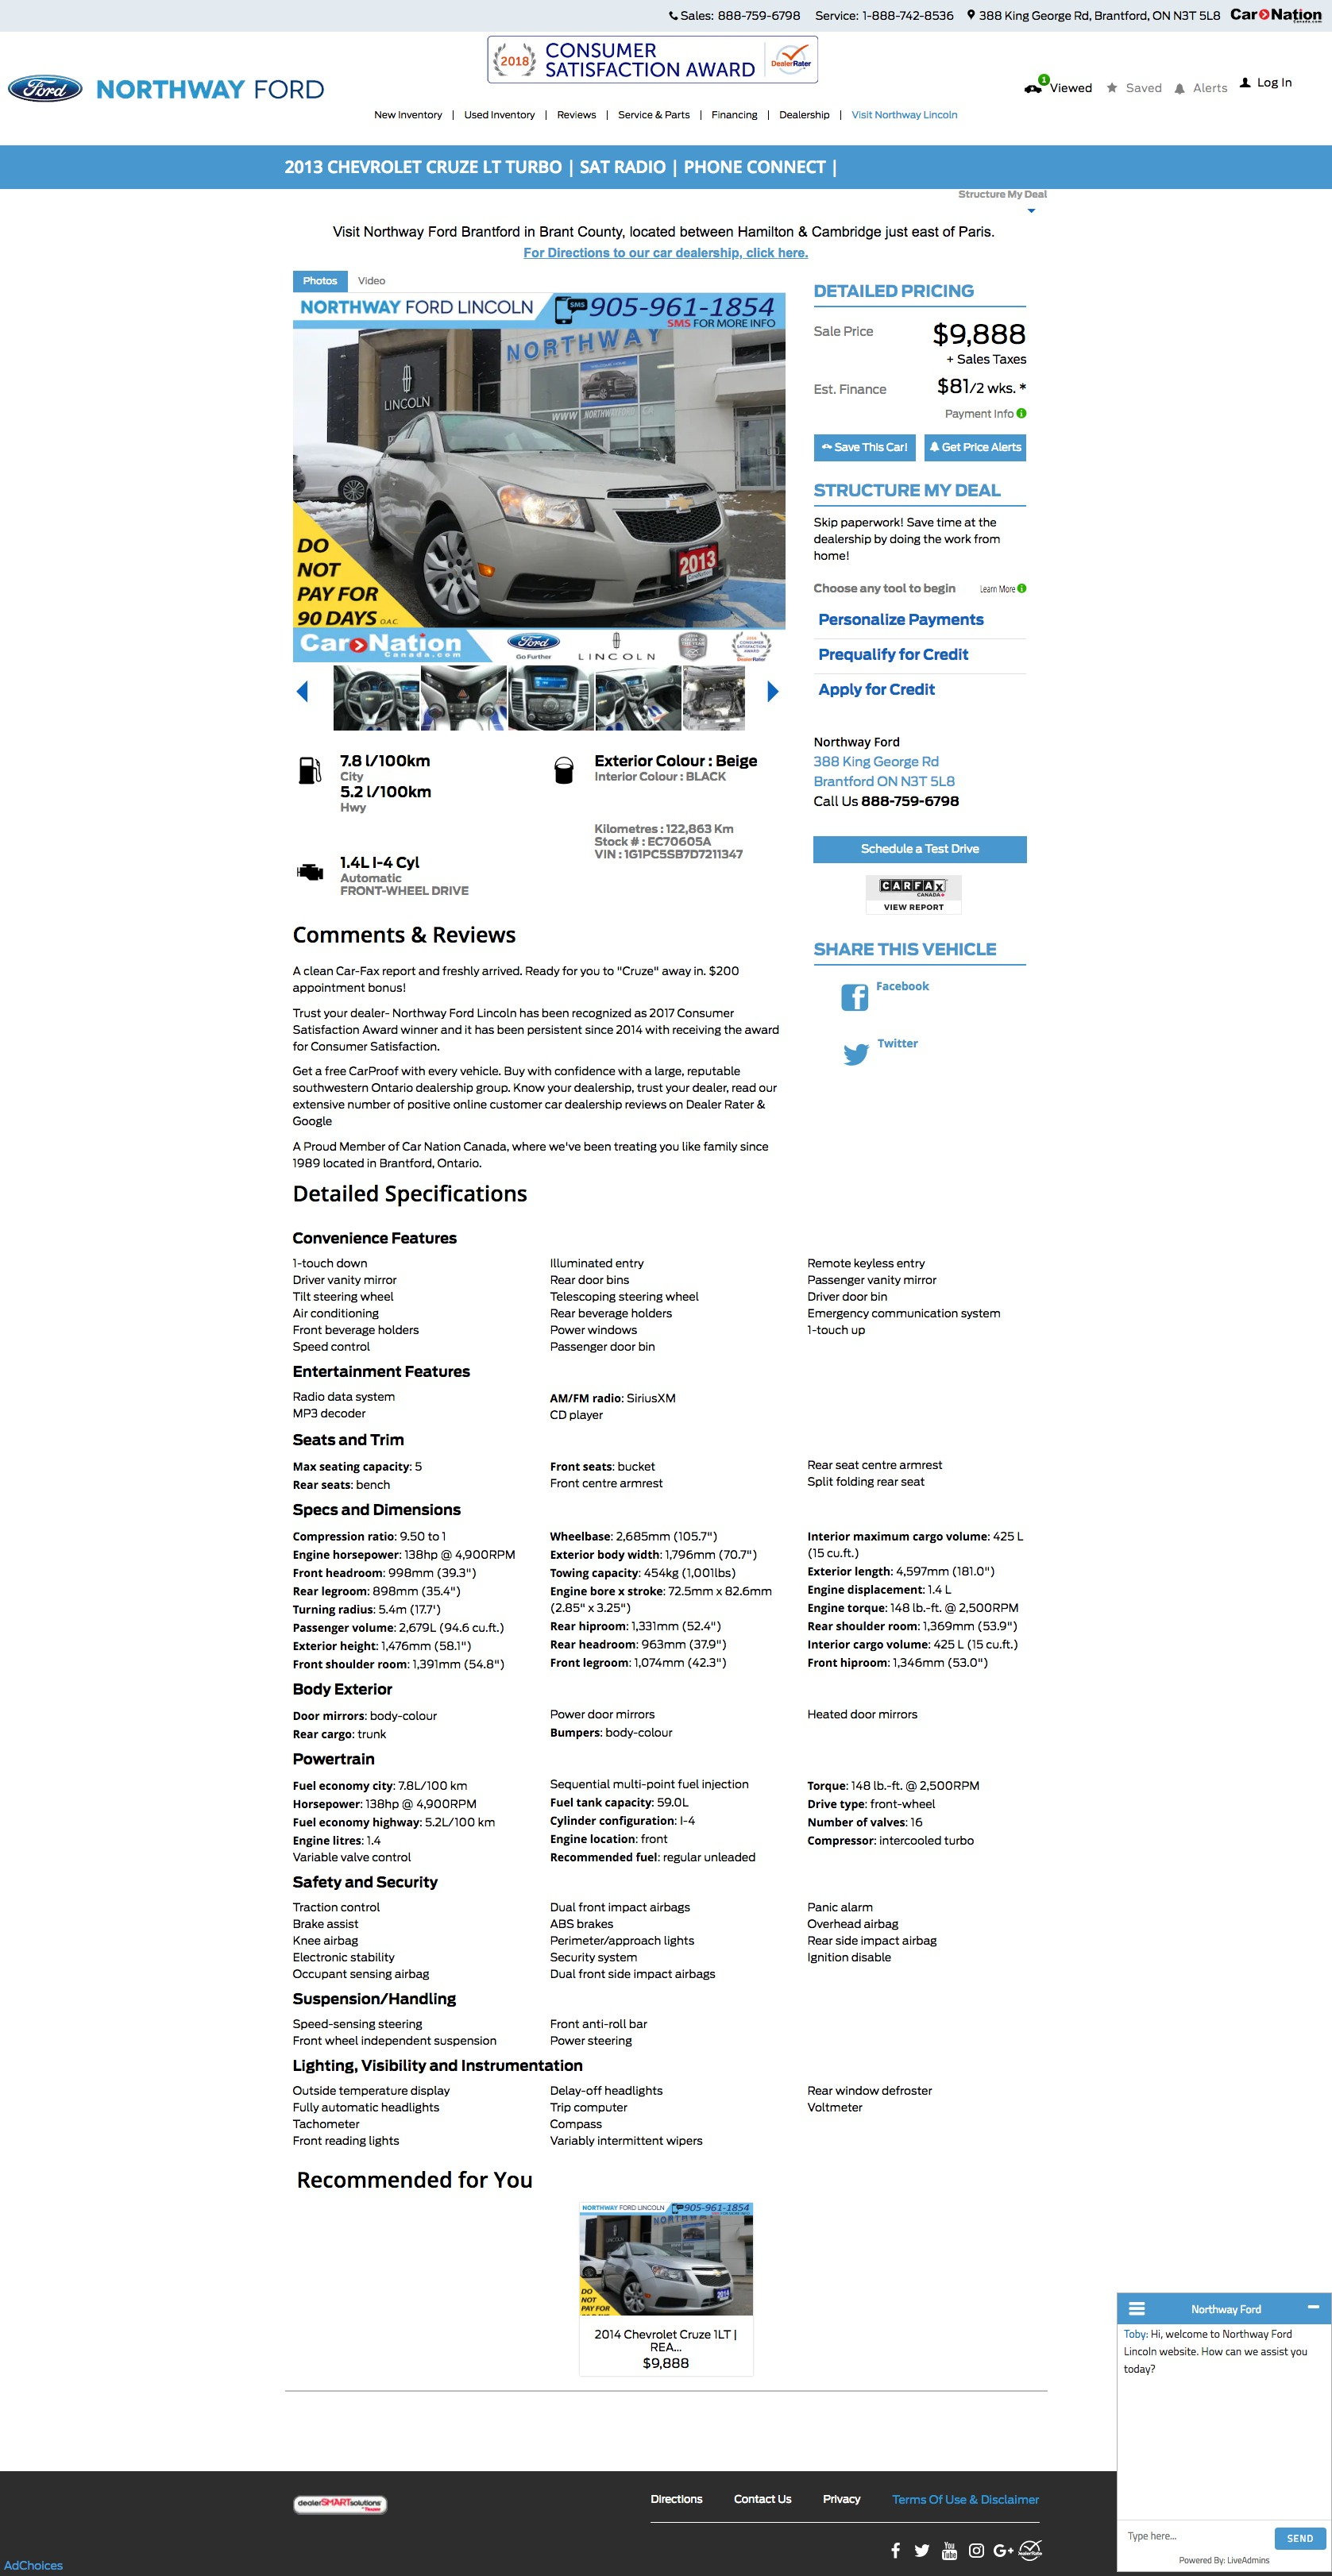car: (768, 681, 780, 703)
